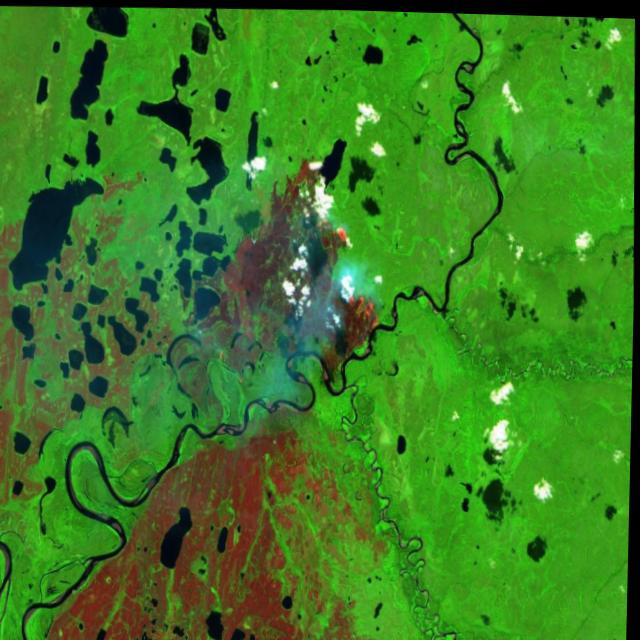fire: (297, 184, 401, 356)
